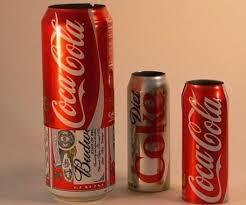Aluminum can: (34, 0, 116, 198), (178, 73, 233, 203), (126, 66, 172, 203)
